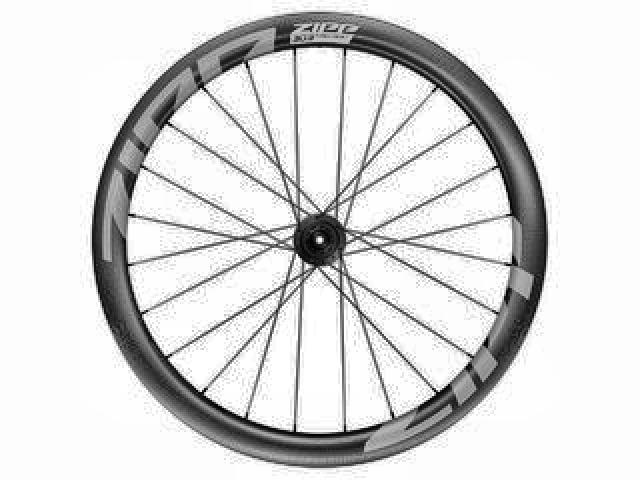wheel: (89, 10, 552, 474)
